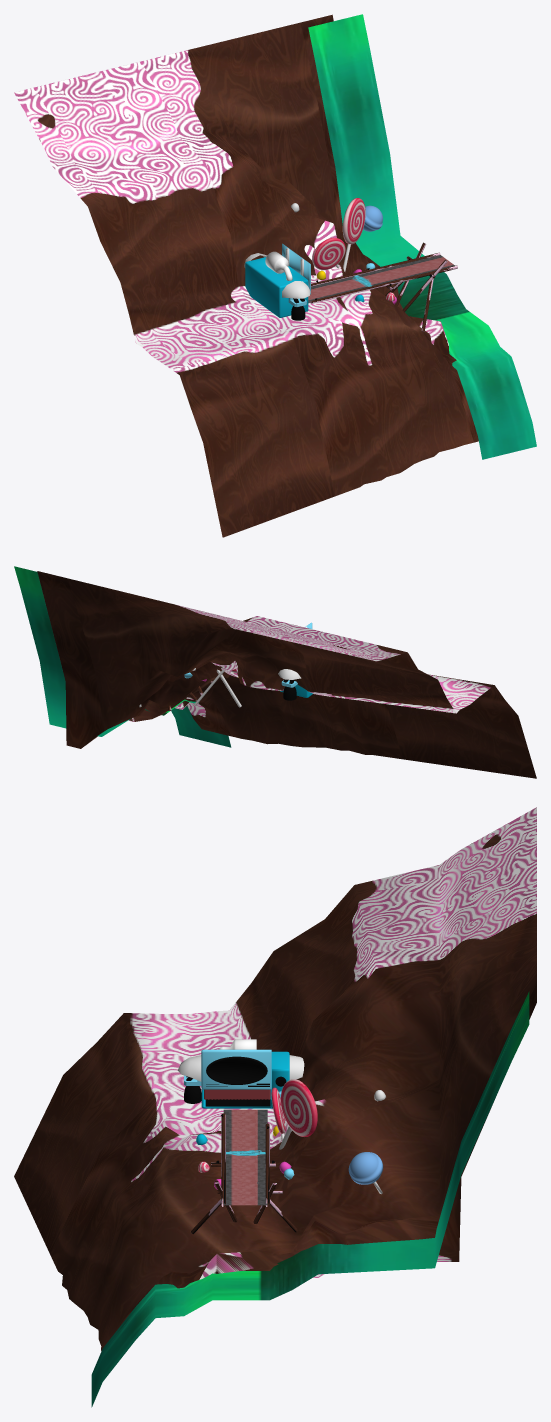
File: stone_age2.glb
The picture shows the model from 3 angles, top to bottom: view 1: azimuth 30°, elevation 25°; view 2: azimuth 150°, elevation 25°; view 3: azimuth 270°, elevation 25°; orthographic projection. The views are drawn at different scales.
Parts seen in each view (by area): view 1: floor, waterfall, Plane, Cube, Sphere, Sphere.001; view 2: floor, waterfall; view 3: floor, waterfall, Plane, Sphere, Cube.001, Circle, Cube, Sphere.002, Plane.001.
Part boxes in pixels (box(x1,y1,x2,y2)): floor: box(14, 14, 478, 537); waterfall: box(308, 14, 536, 459); Plane: box(308, 255, 454, 303); Cube: box(245, 257, 308, 317); Sphere: box(342, 198, 365, 244); Sphere.001: box(312, 238, 345, 270); floor: box(37, 571, 536, 778); waterfall: box(14, 566, 231, 747); floor: box(14, 807, 536, 1350); waterfall: box(91, 991, 529, 1407); Plane: box(223, 1109, 267, 1205); Sphere: box(281, 1079, 317, 1136); Cube.001: box(201, 1049, 271, 1089); Circle: box(206, 1056, 267, 1084); Cube: box(201, 1051, 289, 1108); Sphere.002: box(348, 1152, 383, 1184); Plane.001: box(204, 1089, 270, 1099).
Size of the model in its own units: 22.85 by 19.48 by 23.77.
14 materials, 5 textured.
